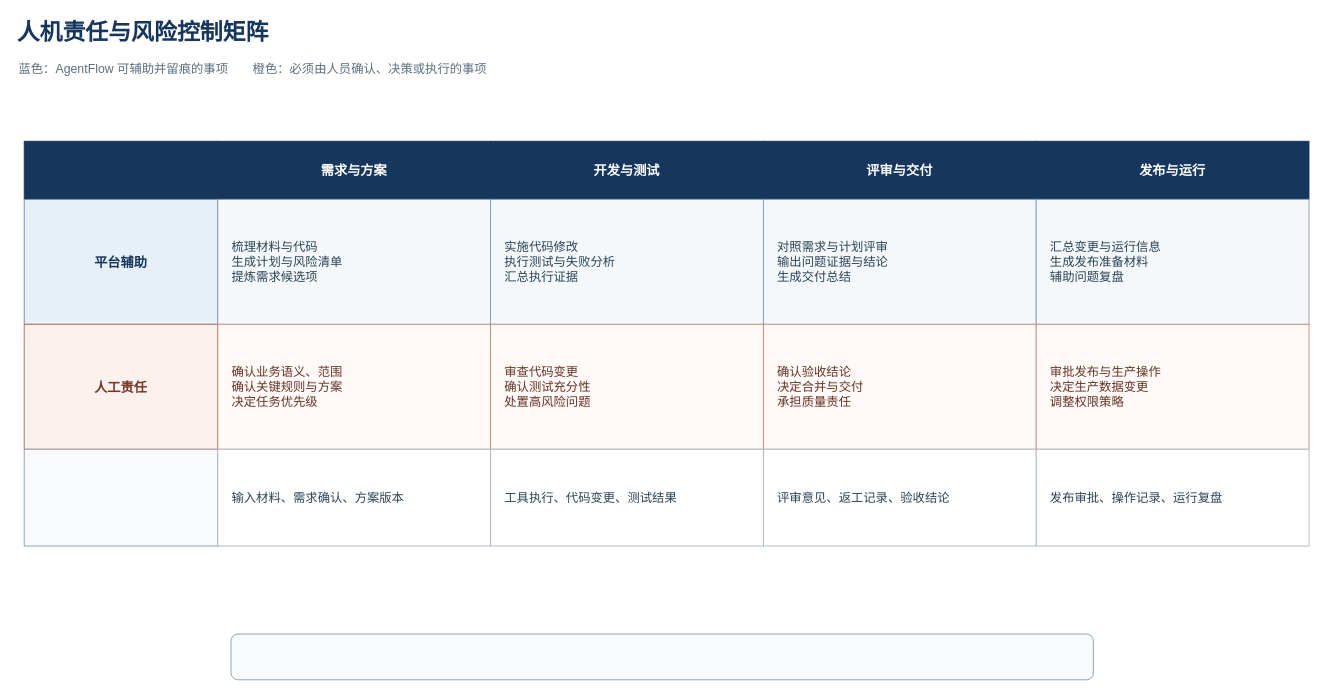
Image size: 1324x695. Some labels were removed from this diagram. Here are the shapes that lost their labels. From the top down, the centre of each, then its label:
At (120,169): "研发生命周期".
At (120,497): "应留存证据".
At (661,656): "数据、权限与执行环境全程遵循最小必要、分级授权、人工确认和可追溯原则".
